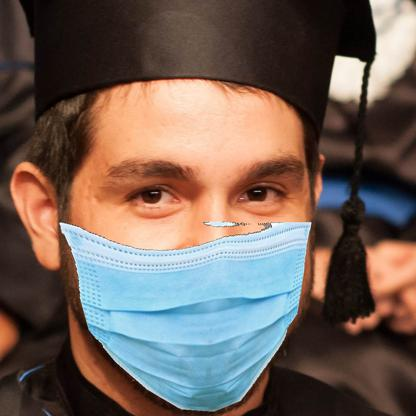mask: (57, 219, 306, 412)
